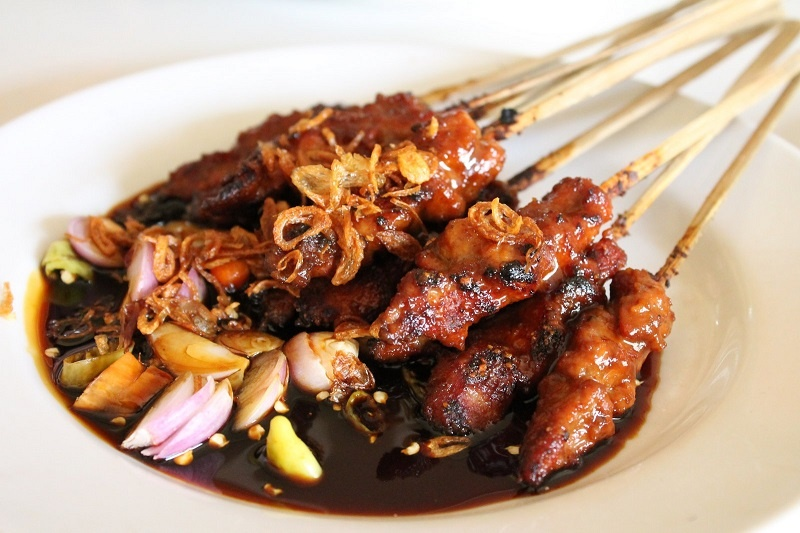sate: (239, 0, 800, 488)
